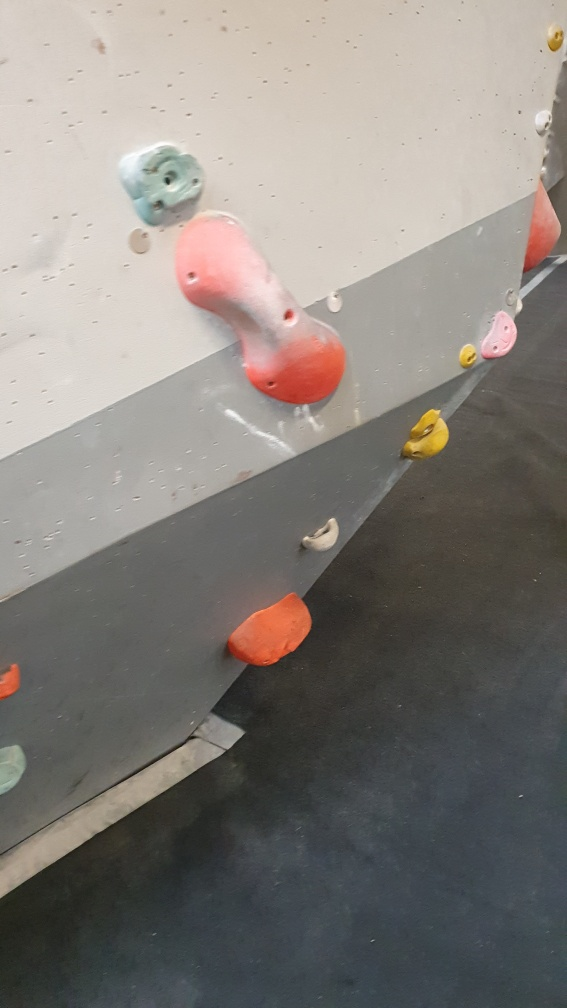Pinch: (174, 210, 346, 404)
